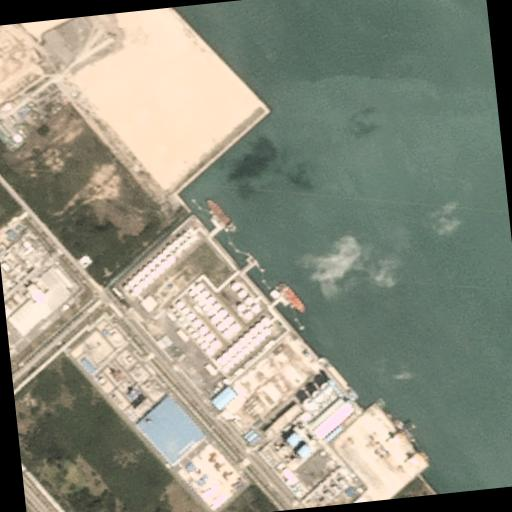ship: (426, 196, 470, 244), (364, 251, 408, 297), (204, 196, 236, 235), (277, 280, 306, 315), (326, 256, 345, 282)
